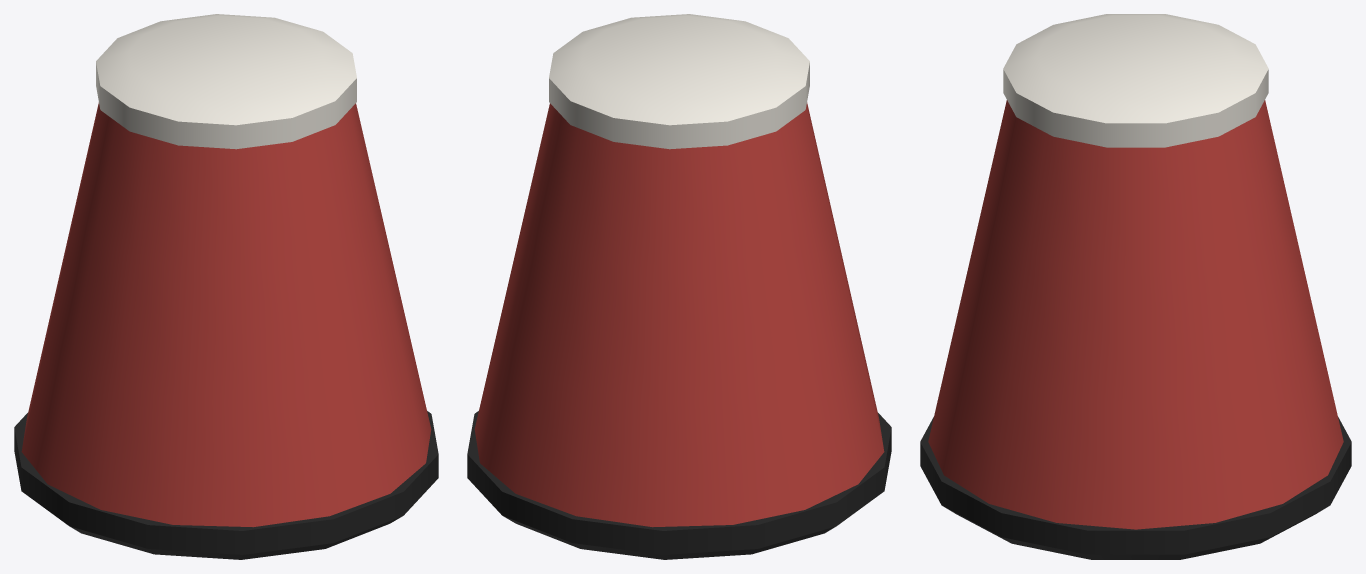
3 renders of one model, left to right at view 1: azimuth 30°, elevation 25°; view 2: azimuth 150°, elevation 25°; view 3: azimuth 270°, elevation 25°, orthographic.
Parts seen in each view (by area): view 1: cone_lod1; view 2: cone_lod1; view 3: cone_lod1.
Part boxes in pixels (x1,y1,x2,y2): cone_lod1: (14,14,438,559); cone_lod1: (467,14,891,559); cone_lod1: (920,14,1351,559).
Size of the model in its own units: 0.1267 by 0.14 by 0.13.
